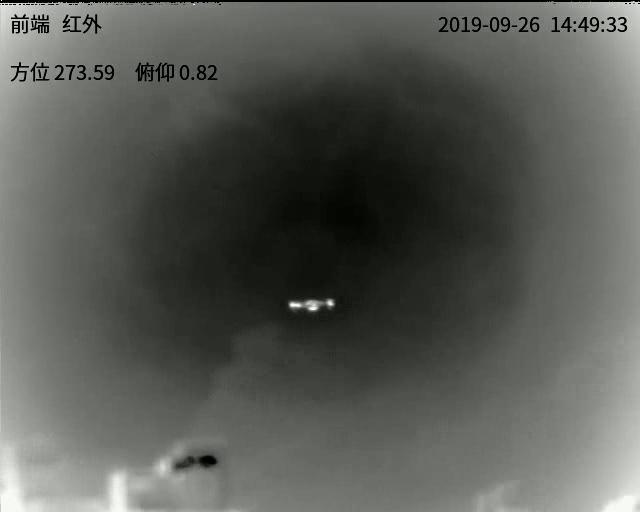DRONE: (286, 295, 337, 313)
